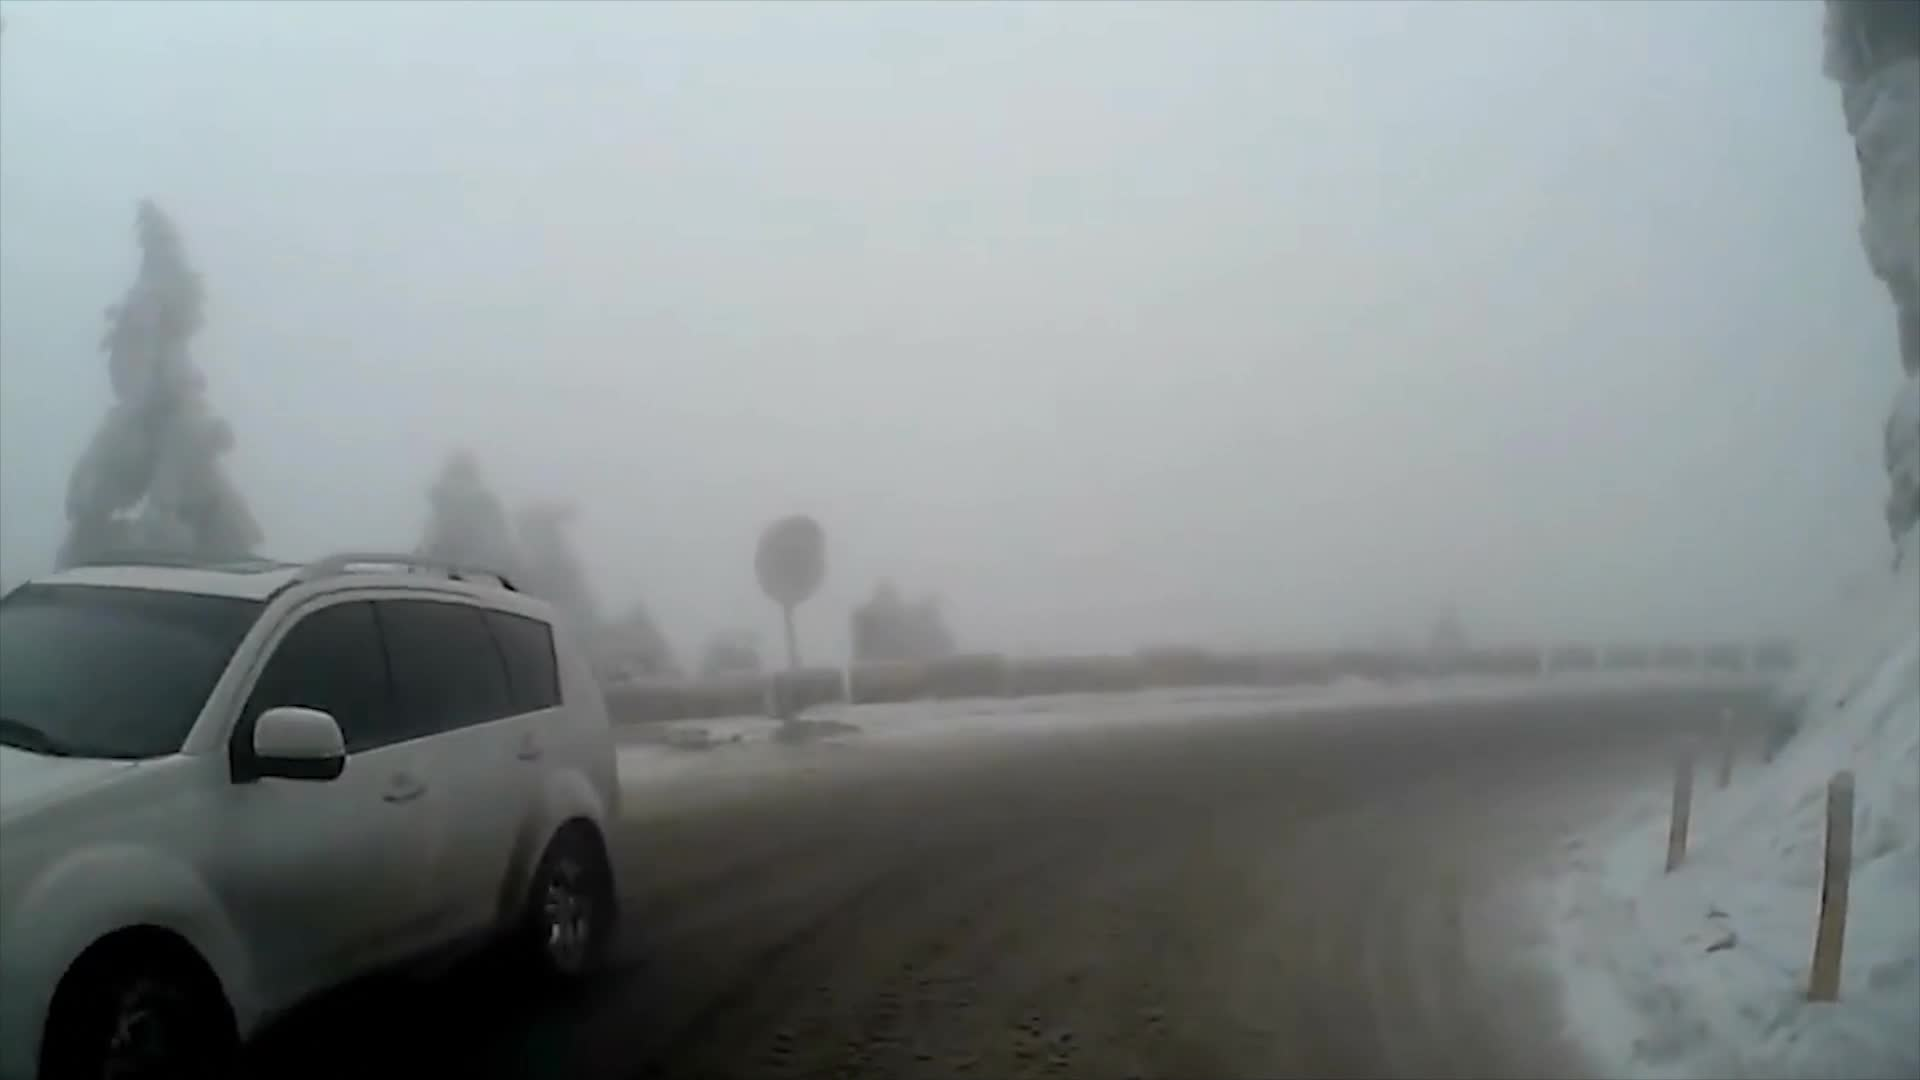vehicle: (0, 547, 626, 1080)
